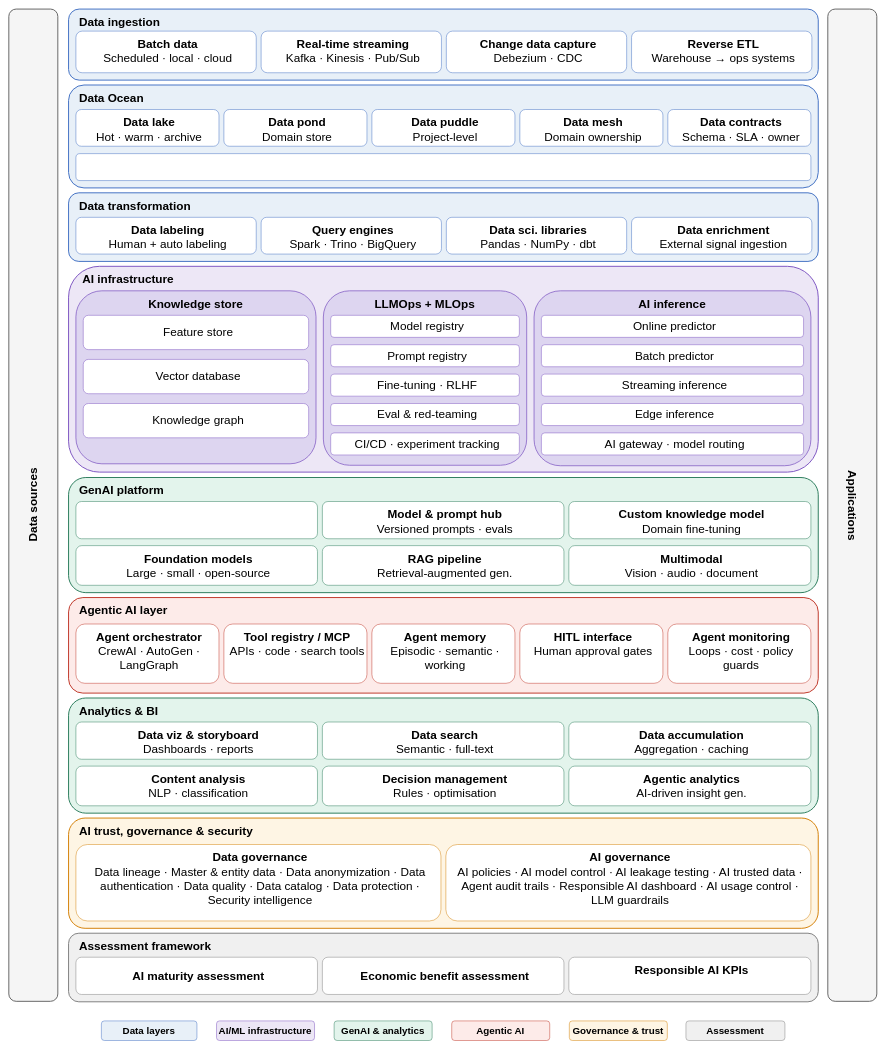
The diagram is 886 pixels wide and 1049 high, and some of its shapes have lost their labels. The shapes that lost their labels are listed below. From the top down, each one's centre as x and y in pixels, then its label:
(x=443, y=167): Workflow manager
(x=196, y=520): Guardrails & orchestration Safety filters · LangGraph
